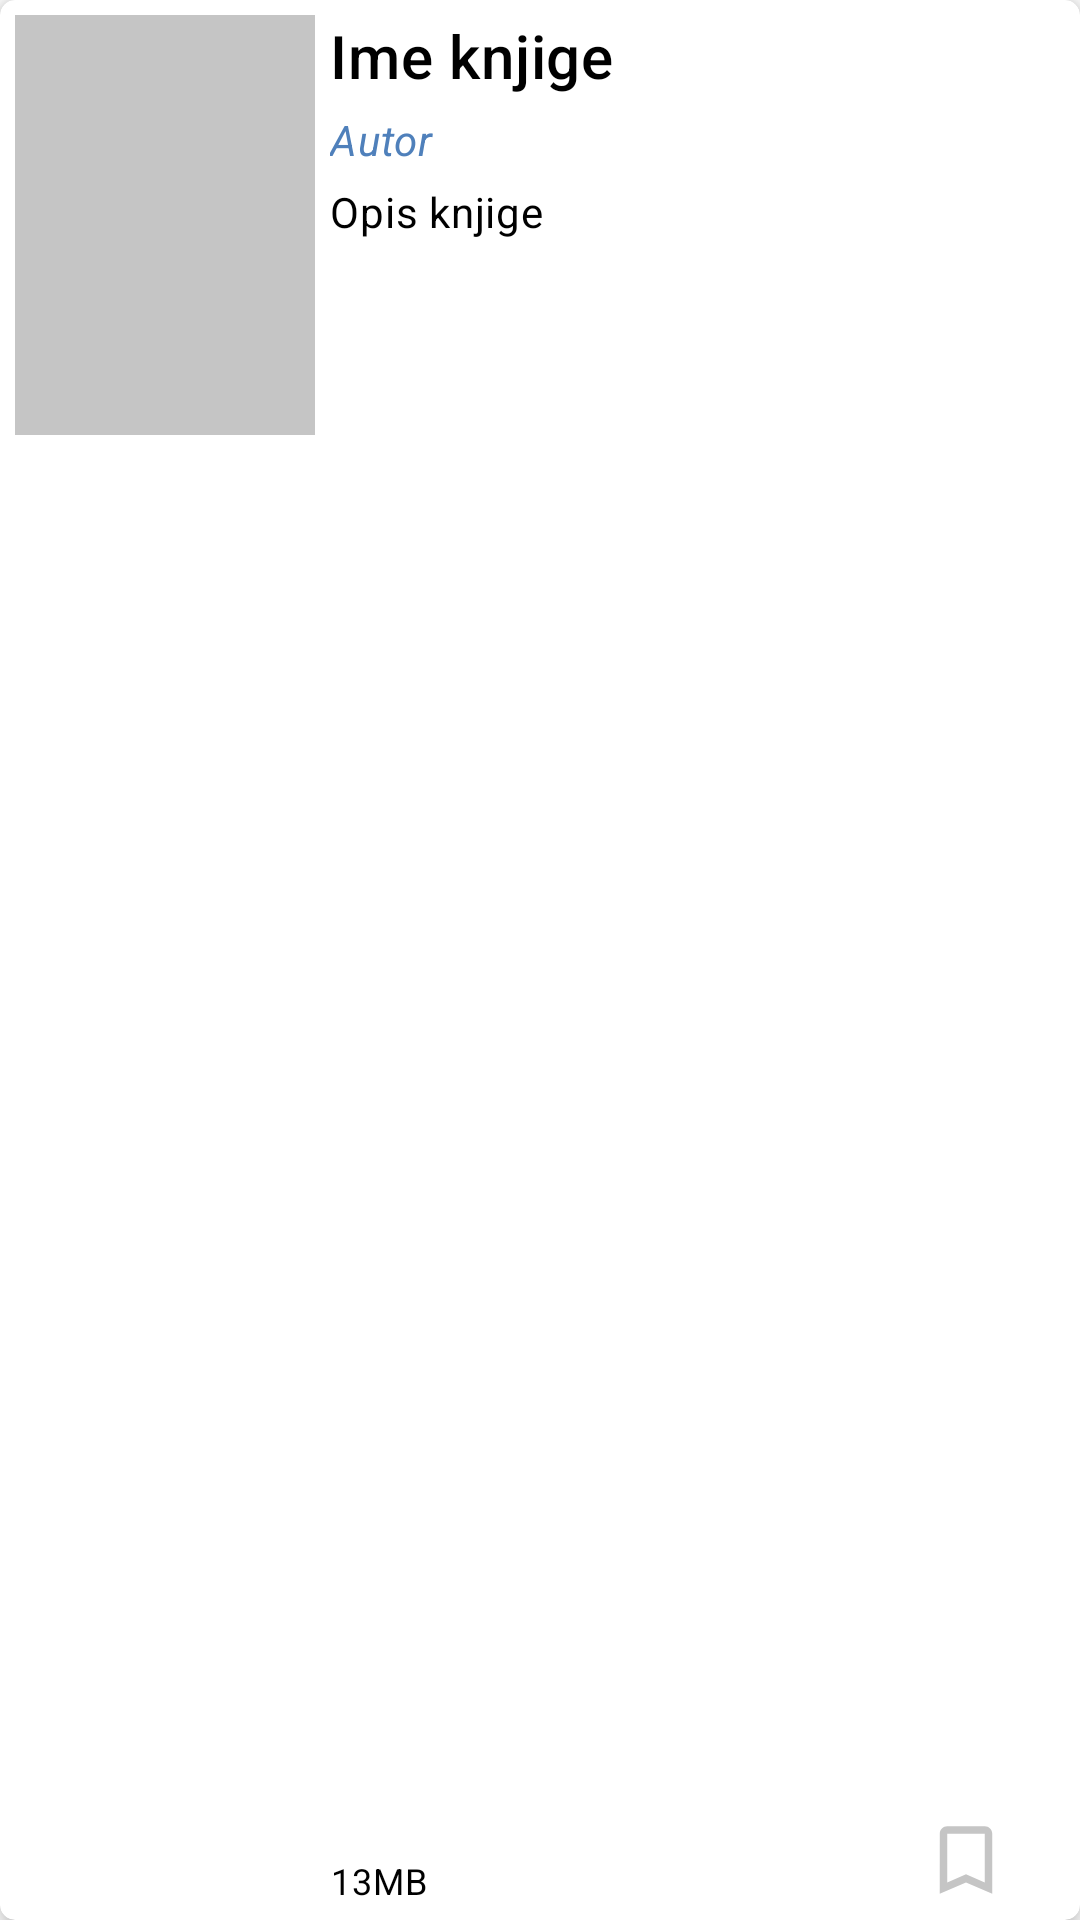

Icons on this 1080 x 1920 Android screen, each with its box as {"left": x1, "top": y1, "right": x2, "bottom": y2}:
bookmark border: {"left": 940, "top": 1826, "right": 992, "bottom": 1894}
